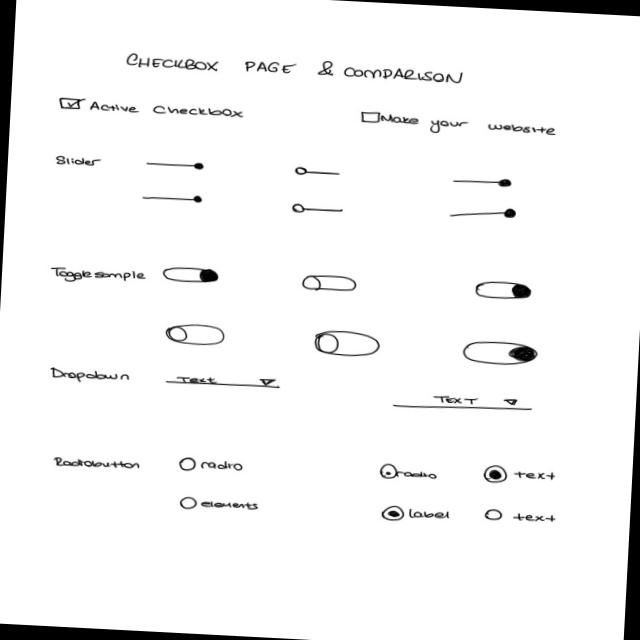checkbox: (358, 109, 560, 142), (57, 96, 246, 121)
label: (124, 52, 465, 86), (50, 264, 148, 286), (49, 366, 132, 386), (51, 455, 140, 472), (53, 154, 104, 169)
radio: (481, 464, 558, 487), (378, 502, 452, 525), (176, 496, 261, 516), (176, 454, 246, 476), (482, 507, 558, 525), (377, 462, 440, 483)
select: (392, 391, 535, 416), (162, 372, 284, 391)
slider: (446, 205, 518, 222), (139, 190, 205, 206), (450, 175, 514, 189), (145, 158, 206, 172), (290, 202, 346, 216), (293, 166, 341, 178)
toggle: (459, 338, 540, 368), (311, 328, 383, 360), (162, 321, 226, 348), (472, 278, 534, 302), (162, 264, 220, 285), (300, 273, 358, 293)
